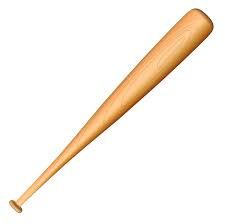baseball bat: (9, 7, 215, 212)
